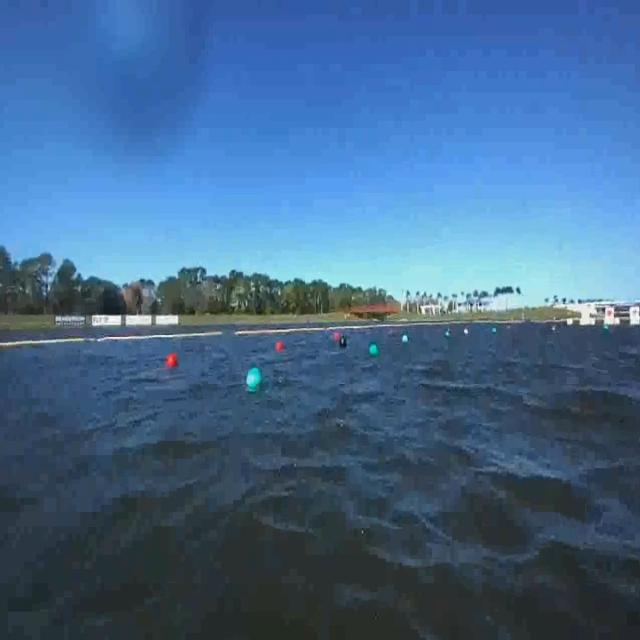green-buoy: (247, 368, 264, 394), (368, 343, 378, 358)
red-buoy: (167, 353, 178, 368), (277, 343, 285, 354), (336, 332, 342, 343)
